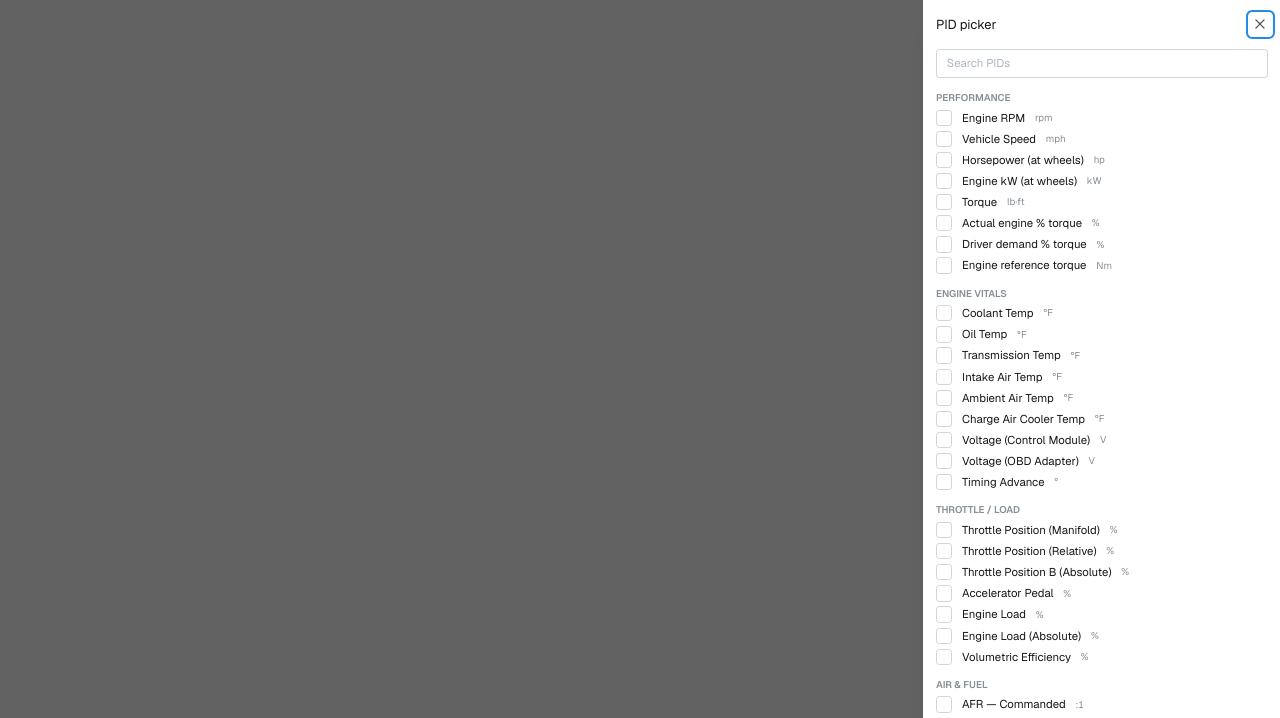
Scenario: pages/session-detail/charts-tab/pid-picker › shows the no-results state when the search matches nothing
Type "xyzzy" into the field with test id "pid-picker-search" at (1101, 63), box [936,49,1267,78]
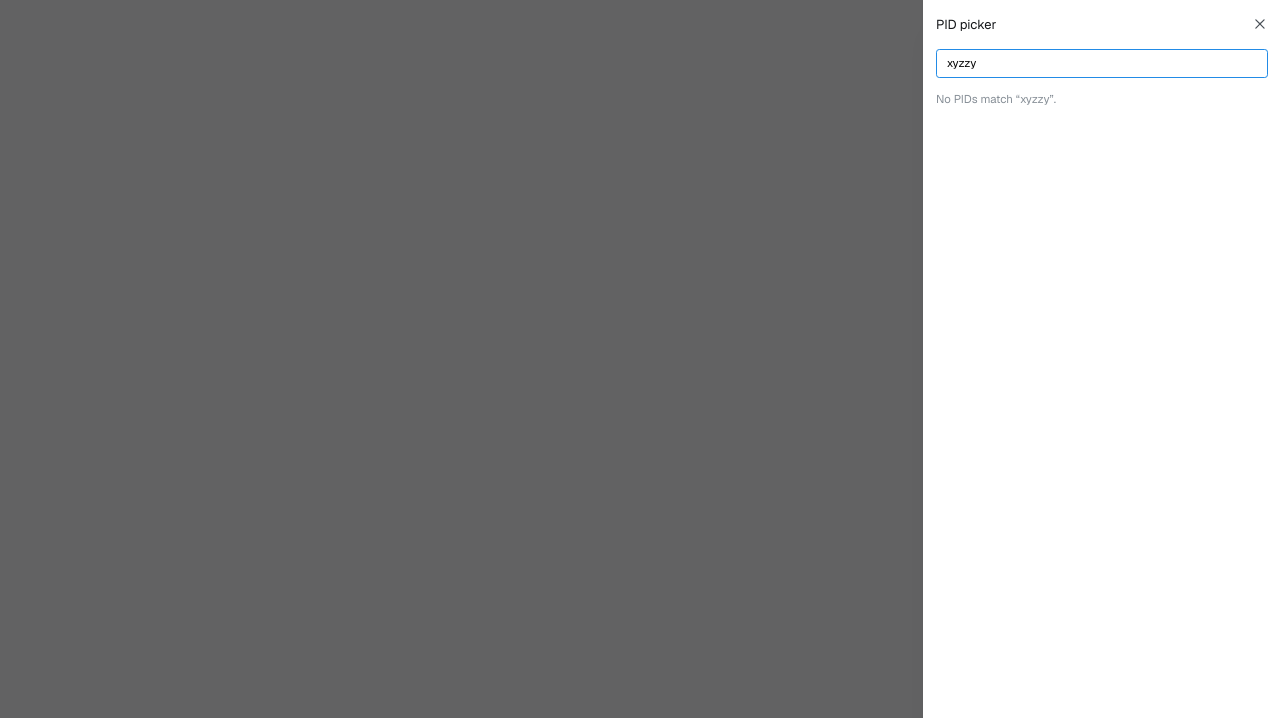
Now the text "No PIDs match “xyzzy”." is shown, box [936,92,1056,106]
